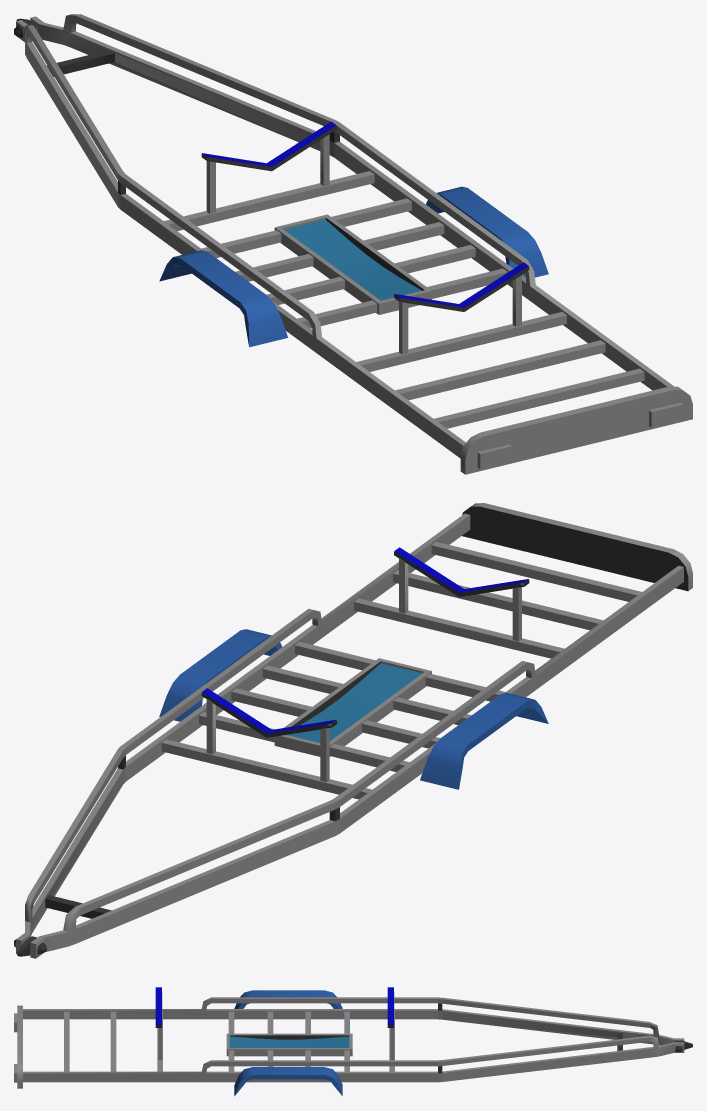
Rendered from TrailerBoat.fbx.
The picture shows the model from 3 angles, top to bottom: view 1: azimuth 30°, elevation 25°; view 2: azimuth 150°, elevation 25°; view 3: azimuth 270°, elevation 25°; orthographic projection. The views are drawn at different scales.
Visible parts, largest first — view 1: trailer_1; view 2: trailer_1; view 3: trailer_1.
Part boxes in pixels (x1,y1,x2,y2): trailer_1: [14, 14, 692, 474]; trailer_1: [14, 503, 692, 958]; trailer_1: [14, 987, 692, 1096].
Size of the model in its own units: 268 by 69.31 by 872.
1 material, 1 textured.
